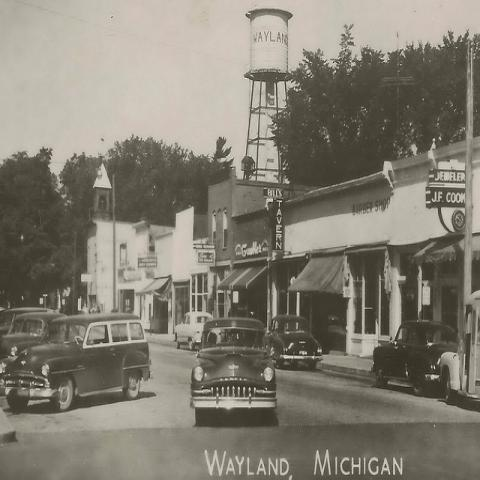car: (1, 310, 152, 412), (189, 320, 279, 410), (371, 319, 459, 395), (0, 311, 68, 356), (265, 314, 322, 366), (1, 308, 61, 336), (173, 312, 213, 350), (0, 294, 11, 312)
truck: (440, 288, 479, 407)
